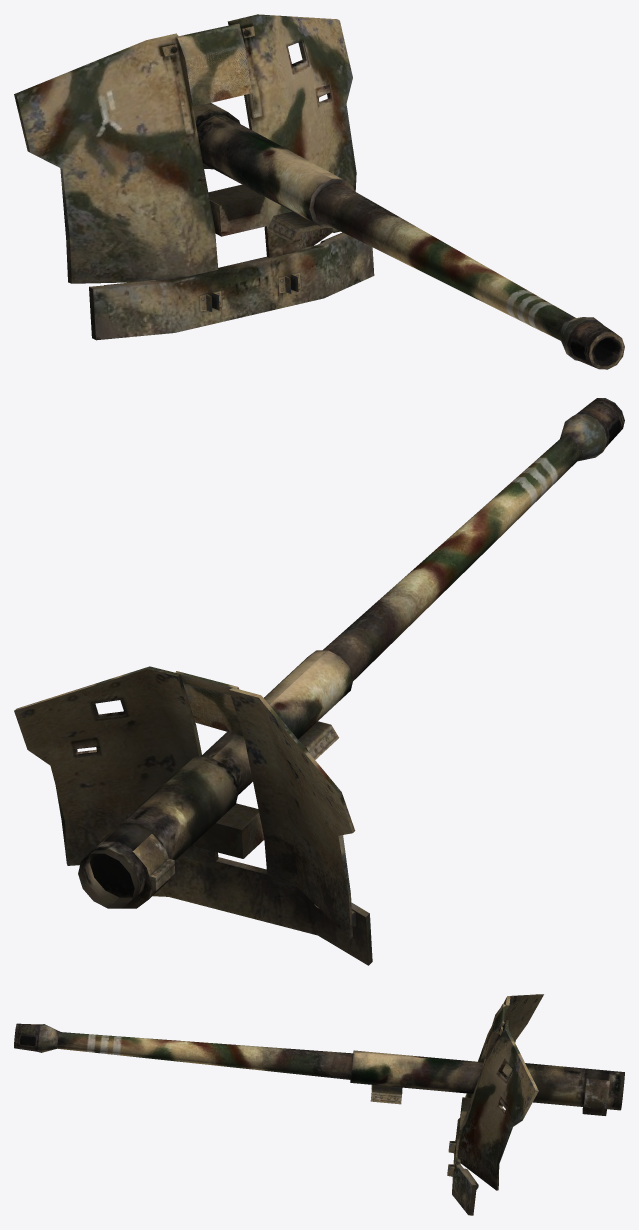
File: Artillery.FBX
3 renders of one model, top to bottom at view 1: azimuth 30°, elevation 25°; view 2: azimuth 150°, elevation 25°; view 3: azimuth 270°, elevation 25°, orthographic. The views are drawn at different scales.
Visible parts, largest first — view 1: polySurface69; view 2: polySurface69; view 3: polySurface69.
Boxes of the visible parts, x1=… form: polySurface69: x1=14, y1=14, x2=624, y2=369; polySurface69: x1=14, y1=398, x2=624, y2=965; polySurface69: x1=14, y1=994, x2=624, y2=1215.
Size of the model in its own units: 403 by 313 by 1075.
1 material, 1 textured.
